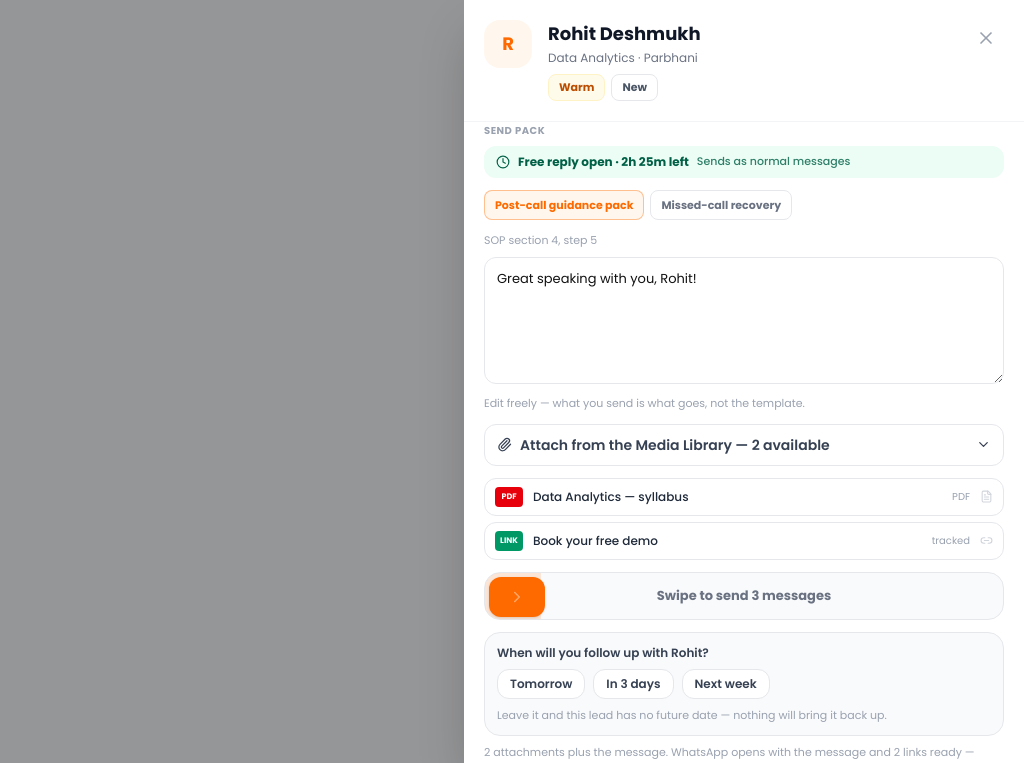
Test case: Send pack › says what is in the Media Library and lets it be attached
(page scrolled)
Note: The control names itself and says how much is behind it.
Click the button "Attach from the Media Library — 2 available" at coordinates (744, 445), box [484,424,1004,466]
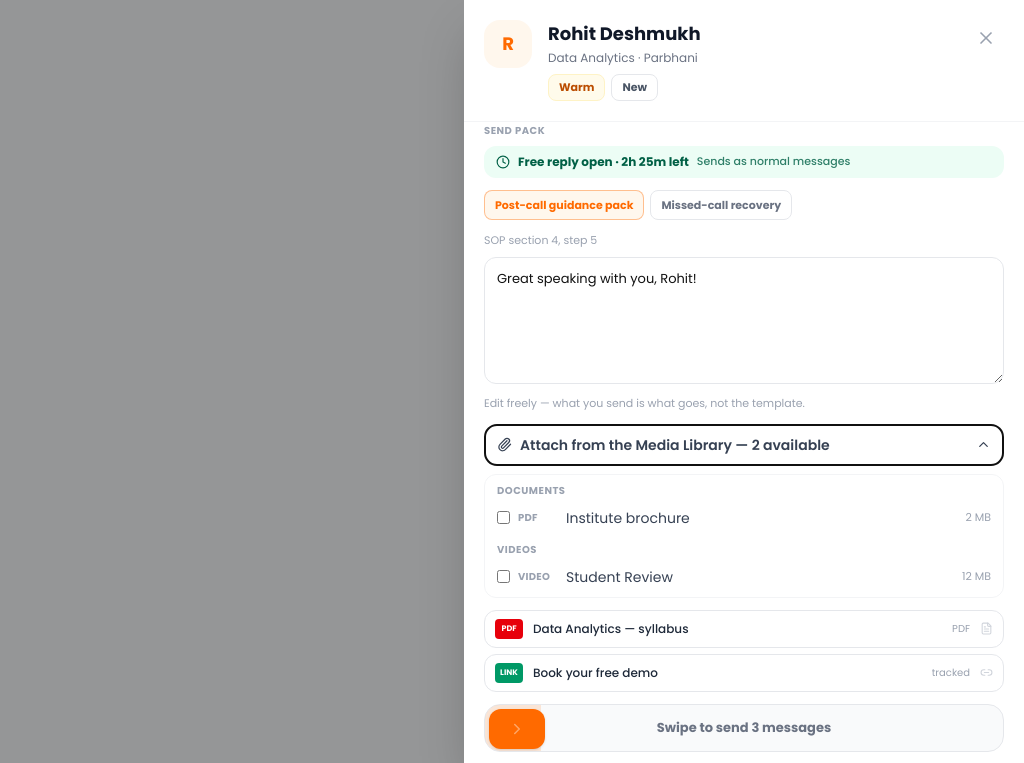
Now the heading "Documents" is shown, box [497,483,566,498]
Now the heading "Videos" is shown, box [497,542,537,557]
Now the text "Student Review" is shown, box [566,567,673,587]
